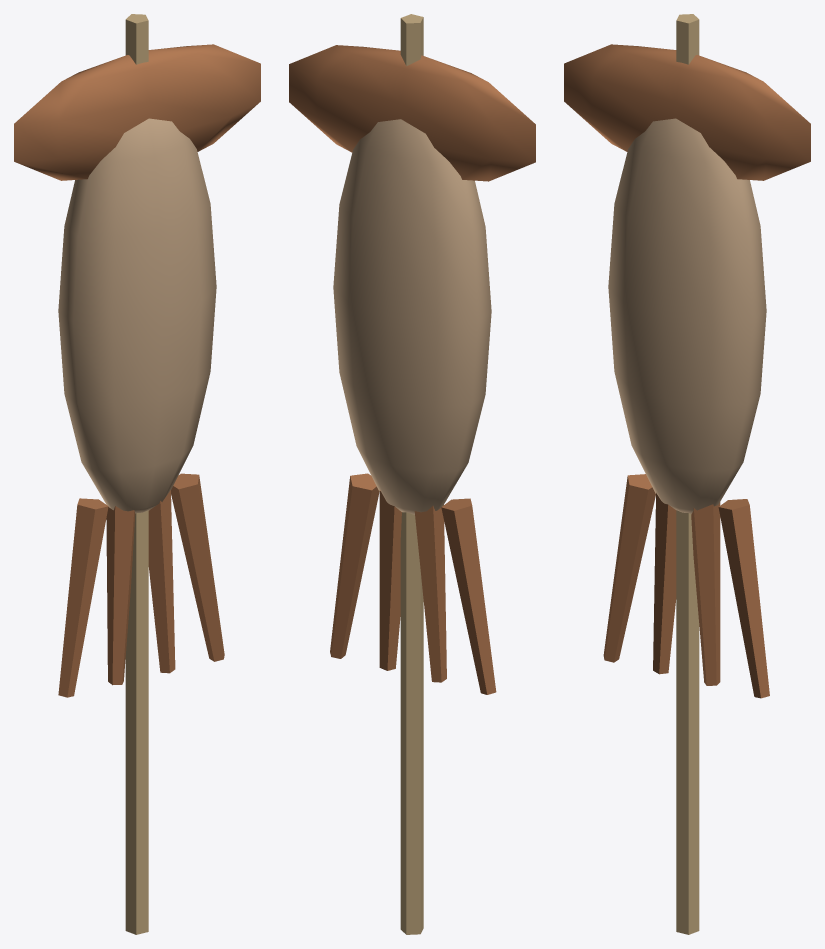
Rendered from item_ikayaki.glb.
The picture shows the model from 3 angles, left to right: view 1: azimuth 30°, elevation 25°; view 2: azimuth 150°, elevation 25°; view 3: azimuth 330°, elevation 25°; orthographic projection.
Parts seen in each view (by area): view 1: item_ikayaki; view 2: item_ikayaki; view 3: item_ikayaki.
Boxes of the visible parts, box(x1,y1,x2,y2) form: item_ikayaki: box(14, 14, 260, 934); item_ikayaki: box(289, 14, 535, 934); item_ikayaki: box(564, 14, 810, 934).
Size of the model in its own units: 0.1179 by 0.416 by 0.04.
